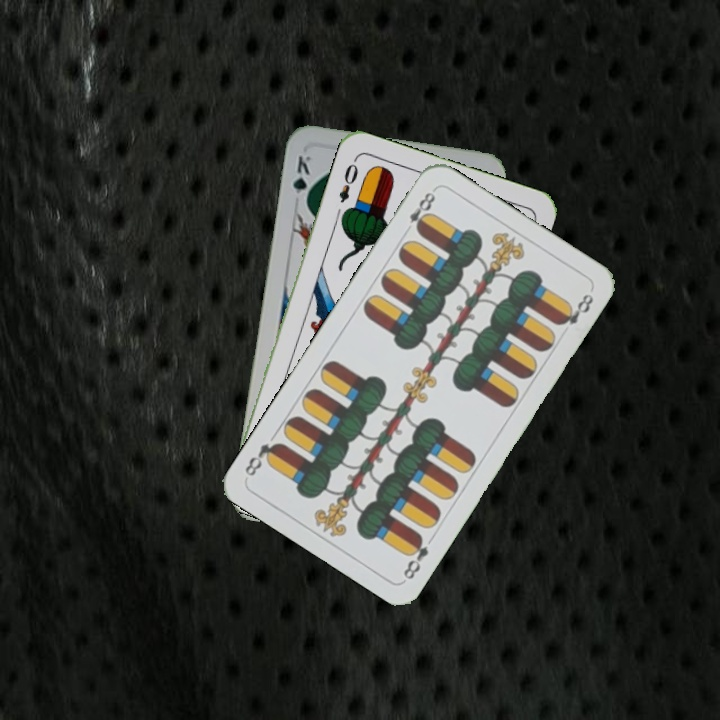E8: (399, 185, 438, 236), (399, 530, 432, 582)
EO: (334, 154, 361, 206)
GK: (288, 151, 314, 209)
